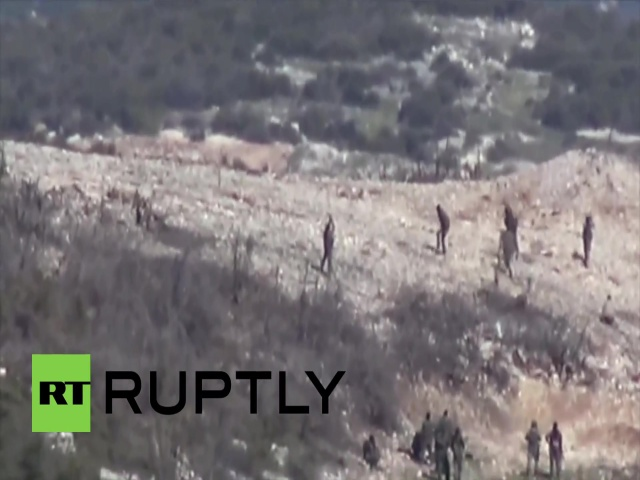person: (544, 421, 566, 480), (523, 420, 542, 480), (503, 204, 522, 258), (320, 218, 337, 275), (433, 203, 450, 255), (497, 227, 514, 278), (451, 427, 467, 480), (580, 212, 594, 267), (437, 407, 453, 451), (420, 410, 431, 458)
